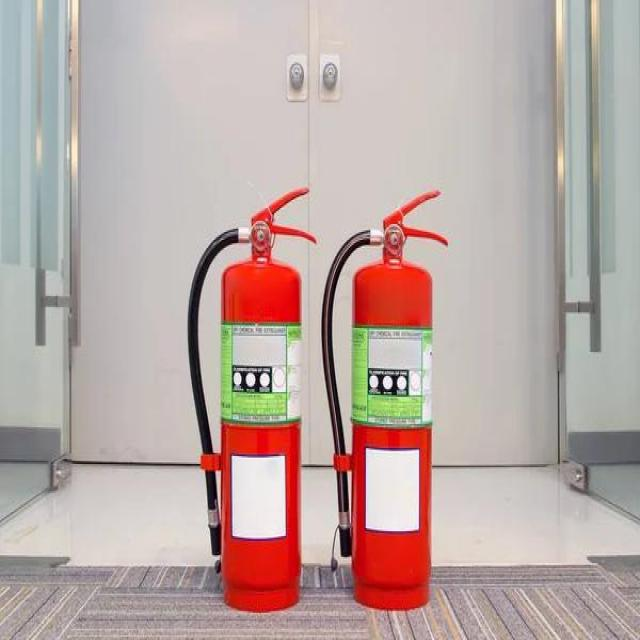fire_extinguisher: (184, 179, 318, 618), (316, 185, 451, 612)
